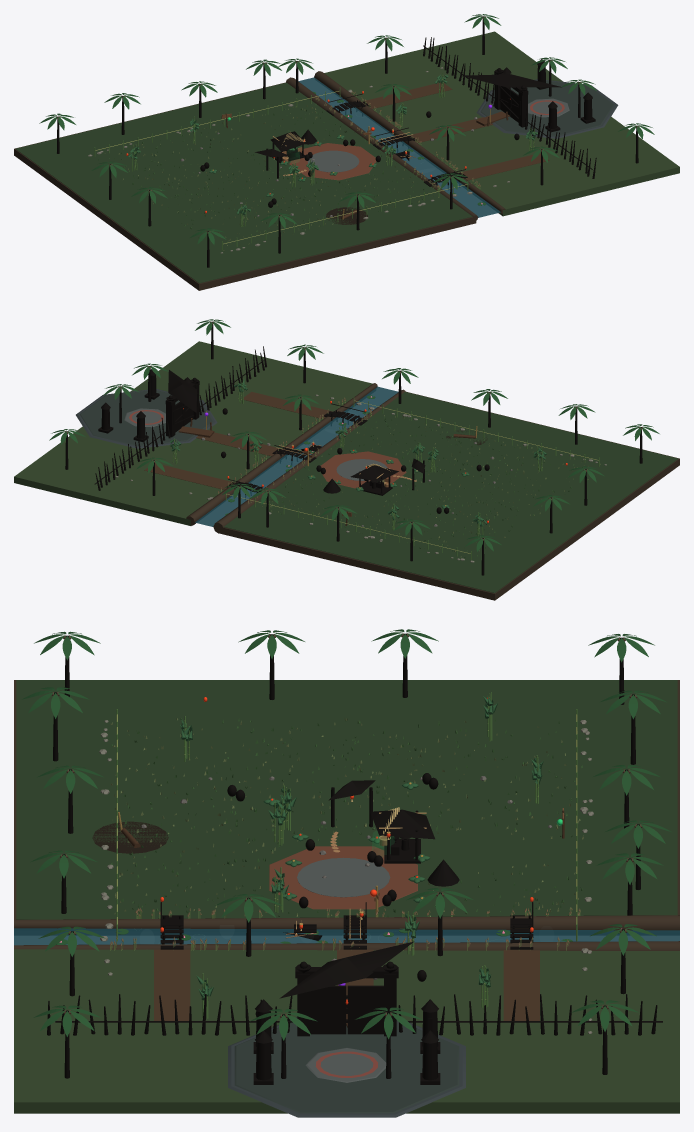
The model's file is TREBRAVE_MapSongQue_ThreeJS.glb.
The picture shows the model from 3 angles, top to bottom: view 1: azimuth 30°, elevation 25°; view 2: azimuth 150°, elevation 25°; view 3: azimuth 270°, elevation 25°; orthographic projection. The views are drawn at different scales.
Visible parts, largest first — view 1: Grass_WestBank, Ground_EastBank, Ground_WestBank, ArenaFloor, TREBRAVE_MapSongQue_ThreeJS_Art, Slope_EastBank, Courtyard_Octagon, Slope_WestBank, Courtyard_Stone, Path_South_East, Path_North_East, VongMonRoof_outline (+6 smaller); view 2: Grass_WestBank, Ground_EastBank, Ground_WestBank, ArenaFloor, TREBRAVE_MapSongQue_ThreeJS_Art, Slope_EastBank, Slope_WestBank, Courtyard_Octagon, Path_South_East, Path_North_East, VongMonRoof_outline, ArenaRim (+6 smaller); view 3: Grass_WestBank, Ground_EastBank, ArenaFloor, TREBRAVE_MapSongQue_ThreeJS_Art, Slope_WestBank, Slope_EastBank, Courtyard_Octagon, Courtyard_Stone, Path_North_East, Path_South_East, VongMonRoof_outline, ArenaInnerAltar (+8 smaller).
Part boxes in pixels (left/top/right/bottom): Grass_WestBank: left=15, top=82, right=472, bottom=283; Ground_EastBank: left=324, top=31, right=679, bottom=216; Ground_WestBank: left=14, top=82, right=476, bottom=290; ArenaFloor: left=480, top=80, right=614, bottom=136; TREBRAVE_MapSongQue_ThreeJS_Art: left=287, top=77, right=500, bottom=217; Slope_EastBank: left=314, top=71, right=505, bottom=213; Courtyard_Octagon: left=289, top=143, right=376, bottom=180; Slope_WestBank: left=286, top=77, right=478, bottom=220; Courtyard_Stone: left=307, top=150, right=359, bottom=172; Path_South_East: left=458, top=153, right=549, bottom=180; Path_North_East: left=363, top=82, right=452, bottom=108; VongMonRoof_outline: left=461, top=74, right=561, bottom=87; Grass_WestBank: left=224, top=392, right=678, bottom=593; Ground_EastBank: left=14, top=341, right=372, bottom=525; Ground_WestBank: left=217, top=391, right=679, bottom=600; ArenaFloor: left=80, top=390, right=213, bottom=446; TREBRAVE_MapSongQue_ThreeJS_Art: left=195, top=386, right=398, bottom=526; Slope_EastBank: left=186, top=383, right=377, bottom=525; Slope_WestBank: left=213, top=389, right=405, bottom=533; Courtyard_Octagon: left=320, top=451, right=406, bottom=488; Path_South_East: left=241, top=391, right=332, bottom=418; Path_North_East: left=144, top=463, right=234, bottom=489; VongMonRoof_outline: left=168, top=370, right=196, bottom=412; ArenaRim: left=76, top=389, right=217, bottom=448; Grass_WestBank: left=16, top=680, right=677, bottom=919; Ground_EastBank: left=14, top=949, right=679, bottom=1113; ArenaFloor: left=234, top=1020, right=459, bottom=1113; TREBRAVE_MapSongQue_ThreeJS_Art: left=14, top=835, right=679, bottom=945; Slope_WestBank: left=14, top=915, right=679, bottom=930; Slope_EastBank: left=14, top=941, right=679, bottom=950; Courtyard_Octagon: left=269, top=846, right=417, bottom=909; Courtyard_Stone: left=297, top=857, right=390, bottom=897; Path_North_East: left=503, top=950, right=539, bottom=1020; Path_South_East: left=154, top=949, right=190, bottom=1020; VongMonRoof_outline: left=279, top=941, right=414, bottom=998; ArenaInnerAltar: left=305, top=1048, right=386, bottom=1082.
Size of what is drawn, in the model's own units: 62.16 by 6 by 40.
